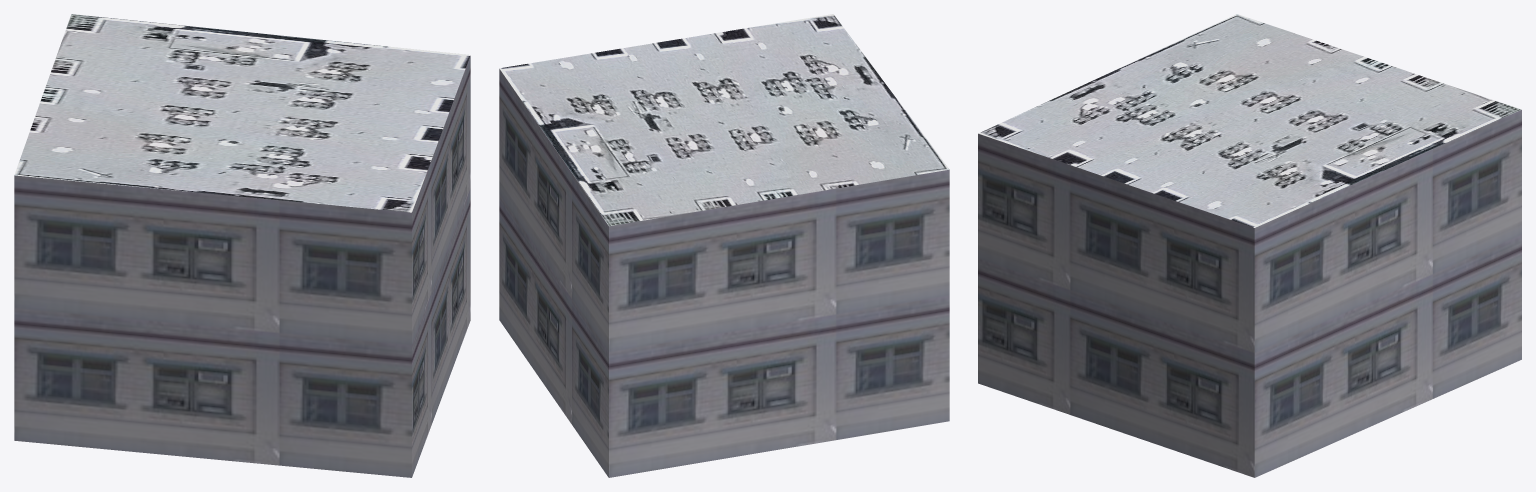
Rendered from ResTex__217.fbx.
The picture shows the model from 3 angles, left to right: view 1: azimuth 30°, elevation 25°; view 2: azimuth 150°, elevation 25°; view 3: azimuth 270°, elevation 25°; orthographic projection. The views are drawn at different scales.
Visible parts, largest first — view 1: CityEngineMaterial_1_m, CityEngineMaterial_8_m; view 2: CityEngineMaterial_1_m, CityEngineMaterial_8_m; view 3: CityEngineMaterial_1_m, CityEngineMaterial_8_m.
Boxes of the visible parts, x1,y1,x2,y2 form: CityEngineMaterial_1_m: (14, 56, 470, 477); CityEngineMaterial_8_m: (14, 14, 470, 212); CityEngineMaterial_1_m: (499, 69, 949, 477); CityEngineMaterial_8_m: (499, 14, 949, 226); CityEngineMaterial_1_m: (978, 110, 1521, 477); CityEngineMaterial_8_m: (978, 14, 1521, 227).
Bounding box in the file's own units: 11.02 × 6 × 11.83.
Materials: 2 (2 with a texture image).
